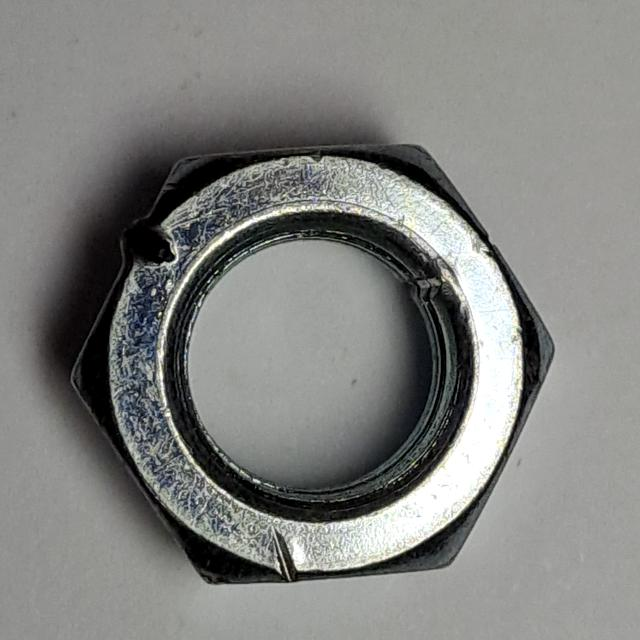Scratches: (60, 124, 571, 603)
